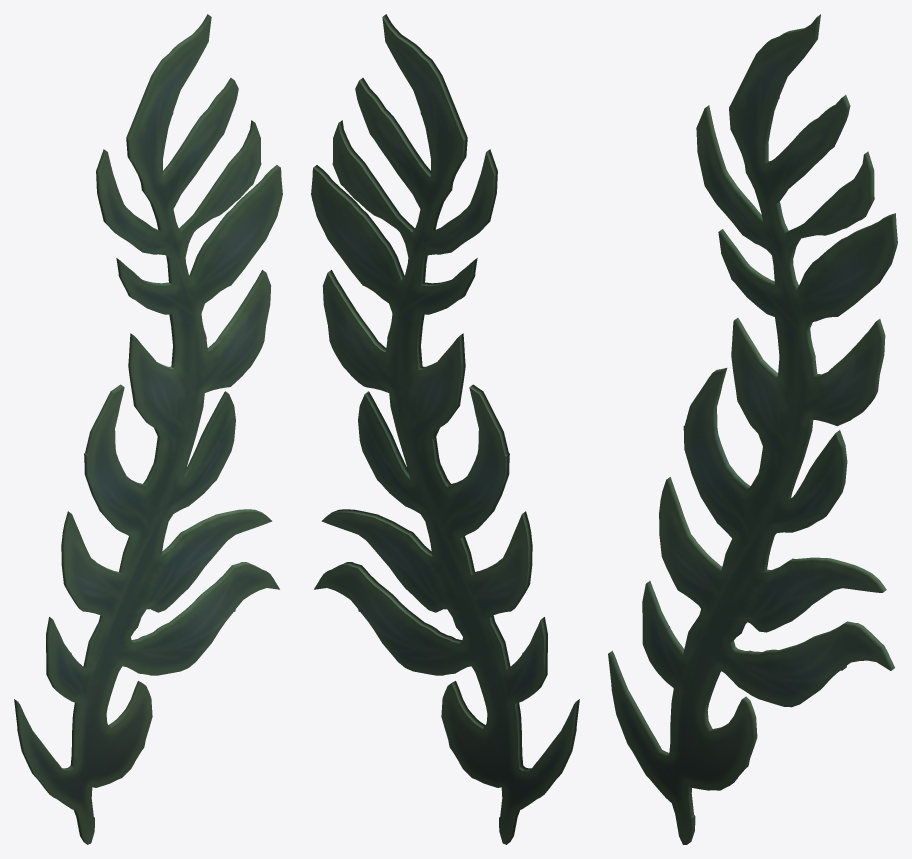
File: kelp.fbx
3 renders of one model, left to right at view 1: azimuth 30°, elevation 25°; view 2: azimuth 150°, elevation 25°; view 3: azimuth 330°, elevation 25°, orthographic. The views are drawn at different scales.
Visible parts, largest first — view 1: Kelp_long; view 2: Kelp_long; view 3: Kelp_long.
Boxes of the visible parts, x1,y1,x2,y2 form: Kelp_long: [14, 14, 282, 844]; Kelp_long: [311, 14, 579, 844]; Kelp_long: [608, 14, 897, 844].
Bounding box in the file's own units: 110 × 317 × 2.94.
